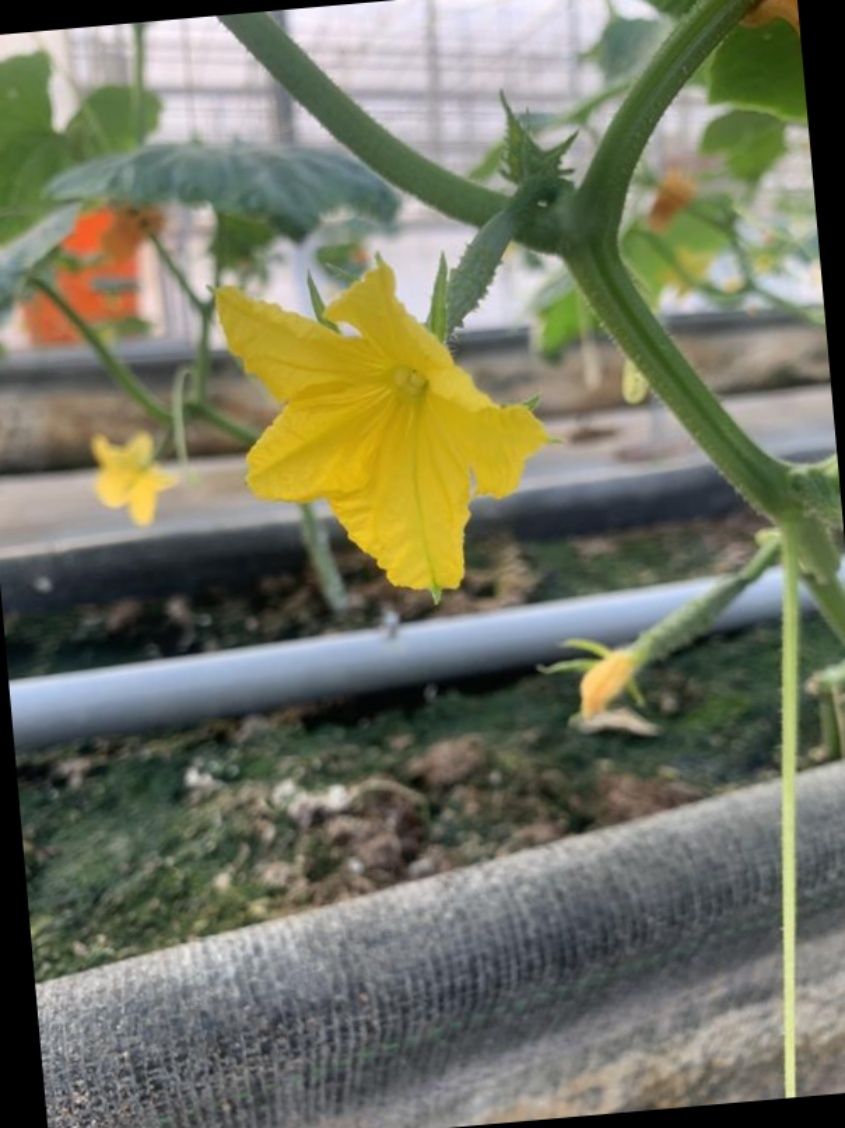flowering: (199, 185, 576, 614)
mature: (199, 186, 582, 617)
